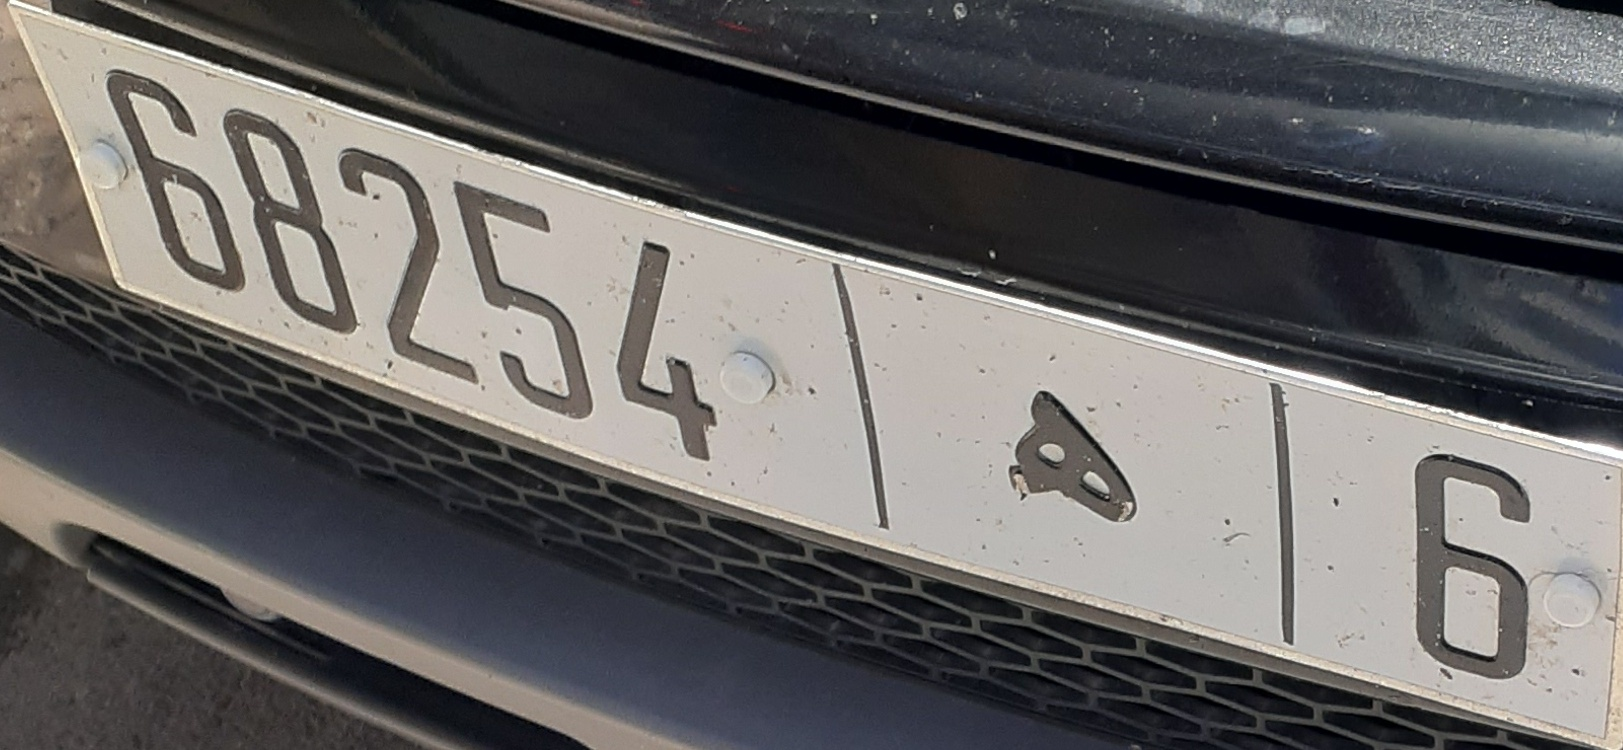2: (316, 127, 481, 395)
4: (579, 230, 742, 465)
5: (443, 156, 603, 443)
6: (1396, 436, 1558, 690), (101, 51, 251, 312)
8: (196, 87, 369, 362)
h: (953, 350, 1163, 544)
